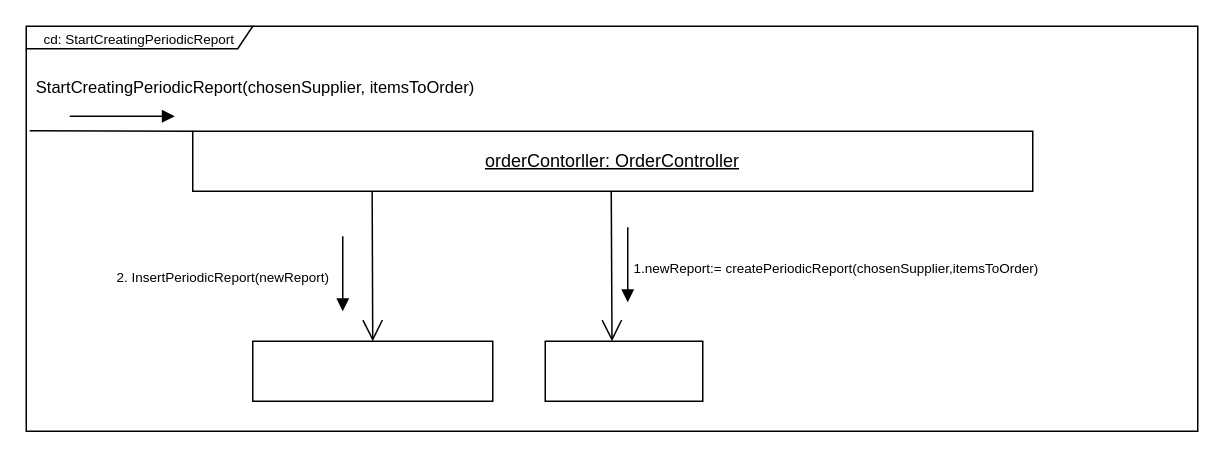
Image size: 1224x458. Some labels were removed from this diagram. The centre of each missing label's shape, as x and y in pixels:
orderManag: OrderManagment: the point at 623,370
periodicMapper: PeriodicReportDataMapper: the point at 372,370
